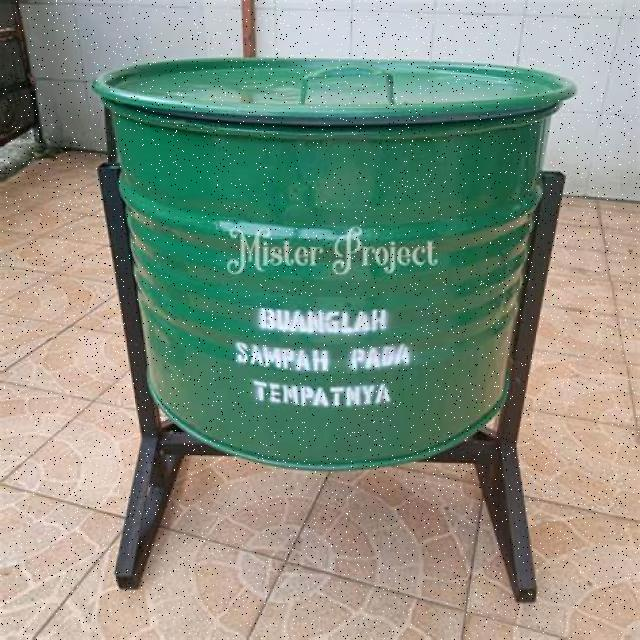garbage container: (84, 40, 586, 609)
